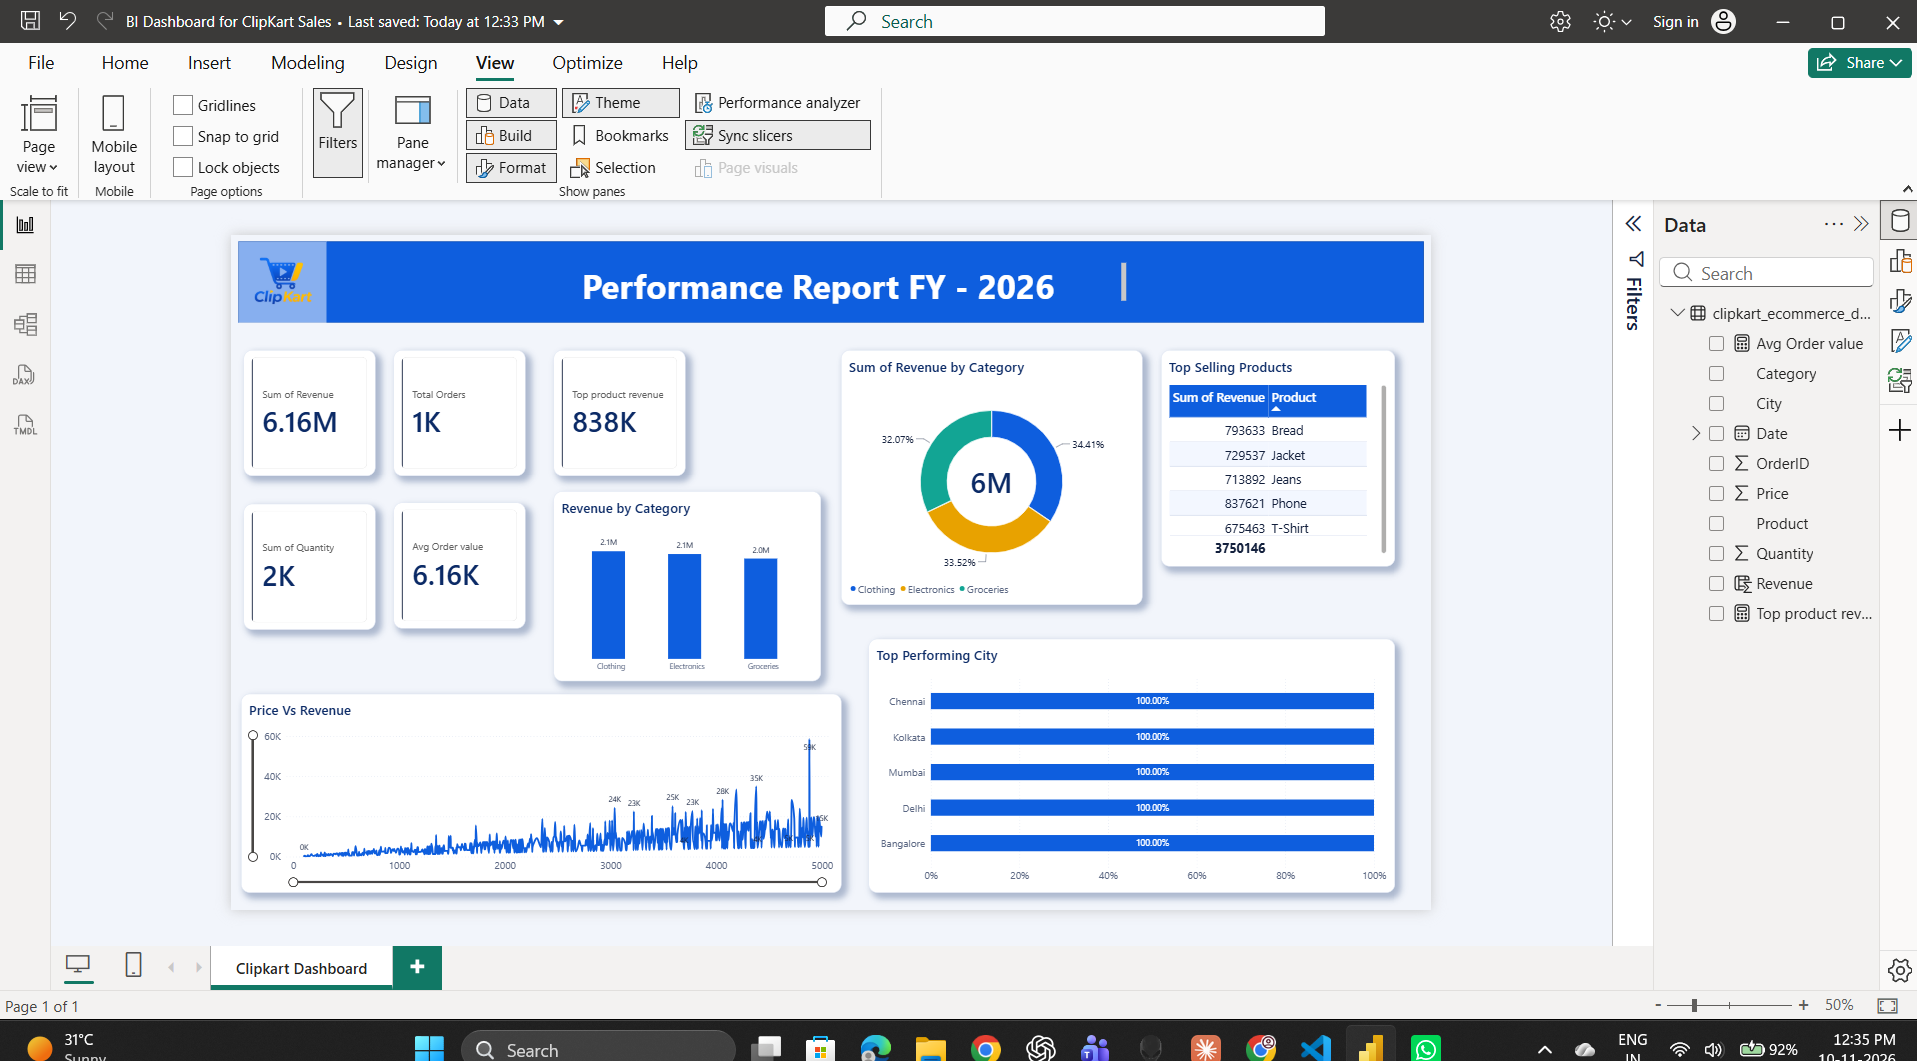

This screenshot's page, from the dashboard's own definition file:
{"tool":"powerbi","page":{"name":"Clipkart Dashboard","canvas":[1920,1080],"ordinal":0},"visuals":[{"type":"shape","box":[0,0,1920.4,150.1],"z":0},{"type":"image","box":[0,0,165,150.6],"z":1000},{"type":"textbox","box":[442,34,1002,86],"z":2000},{"type":"cardVisual","fields":{"Data":["Sum(clipkart_ecommerce_data.Revenue)"]},"box":[19.5,184,211.2,201.2],"z":3000},{"type":"lineChart","title":"Price Vs Revenue","fields":{"Category":["clipkart_ecommerce_data.Price"],"Y":["Sum(clipkart_ecommerce_data.Revenue)"]},"box":[16.3,734.7,960.9,318.5],"z":4000},{"type":"columnChart","title":"Revenue by Category","fields":{"Category":["clipkart_ecommerce_data.Category"],"Y":["Sum(clipkart_ecommerce_data.Revenue)"]},"box":[516,410,428,304],"z":5000},{"type":"tableEx","title":"Top Selling Products","fields":{"Values":["Sum(clipkart_ecommerce_data.Revenue)","clipkart_ecommerce_data.Product"]},"box":[1488,184,374,346],"z":6000},{"type":"cardVisual","fields":{"Data":["CountNonNull(clipkart_ecommerce_data.Revenue)"]},"box":[259.7,184,211.2,201.2],"z":7000},{"type":"cardVisual","fields":{"Data":["Sum(clipkart_ecommerce_data.Quantity)"]},"box":[19.5,430.7,211.2,201.2],"z":8000},{"type":"hundredPercentStackedBarChart","title":"Top Performing City","fields":{"Category":["clipkart_ecommerce_data.City"],"Y":["Sum(clipkart_ecommerce_data.Revenue)"]},"box":[998,632,842,406],"z":9000},{"type":"cardVisual","fields":{"Data":["clipkart_ecommerce_data.Avg Order value"]},"box":[259.7,428.5,211.2,201.2],"z":10000},{"type":"donutChart","fields":{"Category":["clipkart_ecommerce_data.Category"],"Y":["Sum(clipkart_ecommerce_data.Revenue)"]},"box":[976,184,482,408],"z":11000},{"type":"cardVisual","fields":{"Data":["clipkart_ecommerce_data.Top product revenue"]},"box":[515.1,184,211.2,201.2],"z":12000}]}

Visuals, with their boxes on the page's 1920x1080 design canvas (x1, y1, x2, y2). These are canvas units, not pixel positions in the 1917x1061 screenshot, which may show the page scaled, cropped or inside an application window:
shape: bbox(0, 0, 1920, 150)
image: bbox(0, 0, 165, 151)
textbox: bbox(442, 34, 1444, 120)
cardVisual - Sum(clipkart_ecommerce_data.Revenue): bbox(20, 184, 231, 385)
"Price Vs Revenue" lineChart: bbox(16, 735, 977, 1053)
"Revenue by Category" columnChart: bbox(516, 410, 944, 714)
"Top Selling Products" tableEx: bbox(1488, 184, 1862, 530)
cardVisual - CountNonNull(clipkart_ecommerce_data.Revenue): bbox(260, 184, 471, 385)
cardVisual - Sum(clipkart_ecommerce_data.Quantity): bbox(20, 431, 231, 632)
"Top Performing City" hundredPercentStackedBarChart: bbox(998, 632, 1840, 1038)
cardVisual - clipkart_ecommerce_data.Avg Order value: bbox(260, 428, 471, 630)
donutChart - clipkart_ecommerce_data.Category x Sum(clipkart_ecommerce_data.Revenue): bbox(976, 184, 1458, 592)
cardVisual - clipkart_ecommerce_data.Top product revenue: bbox(515, 184, 726, 385)
